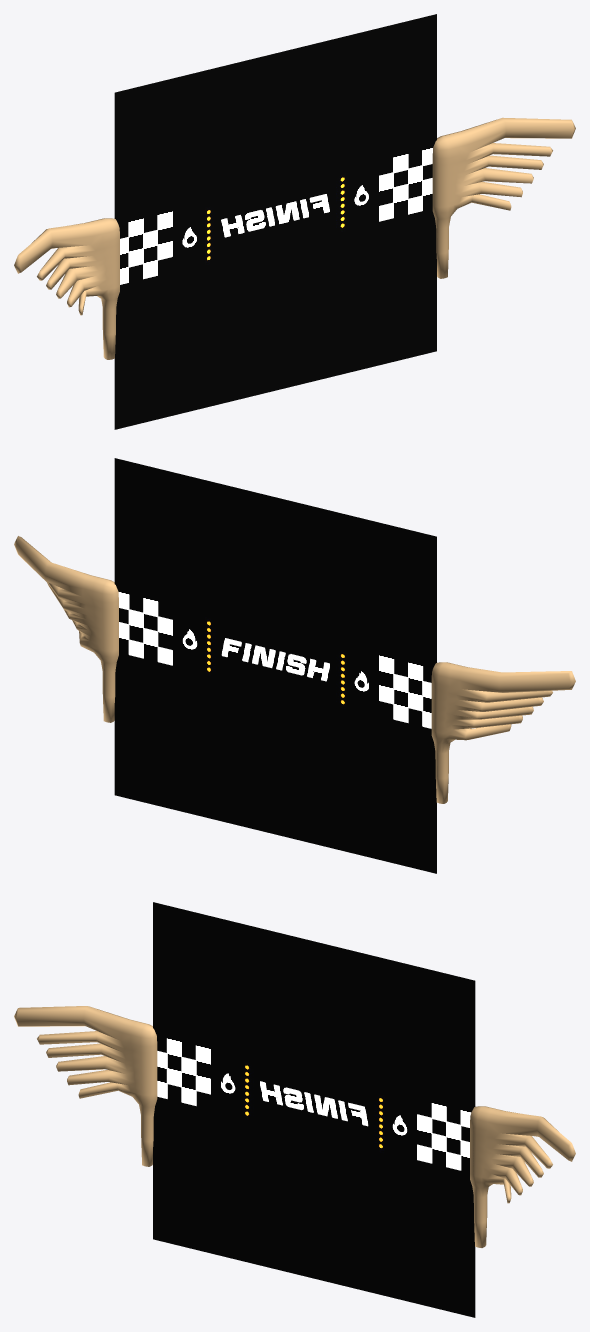
File: track2FinishFlag.glb
3 views of the same model, one above another, from view 1: azimuth 30°, elevation 25°; view 2: azimuth 150°, elevation 25°; view 3: azimuth 330°, elevation 25° (orthographic).
Parts seen in each view (by area): view 1: Cube.016; view 2: Cube.016; view 3: Cube.016.
Boxes of the visible parts, x1=… form: Cube.016: x1=14, y1=14, x2=575, y2=429; Cube.016: x1=14, y1=458, x2=575, y2=873; Cube.016: x1=14, y1=902, x2=575, y2=1317.
Size of the model in its own units: 6.98 by 4 by 0.5687.
2 materials, 1 textured.
